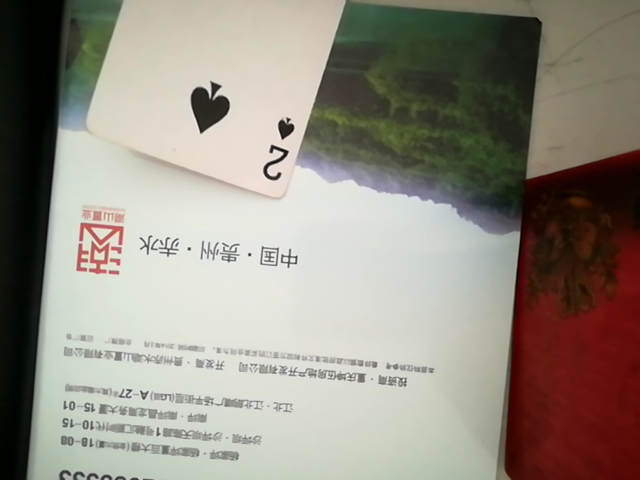ht 2: (77, 2, 374, 189)
